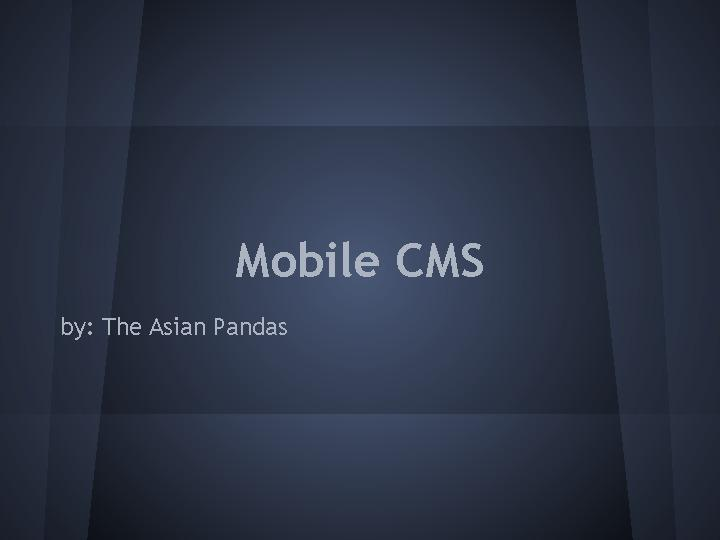title: (51, 211, 501, 348)
